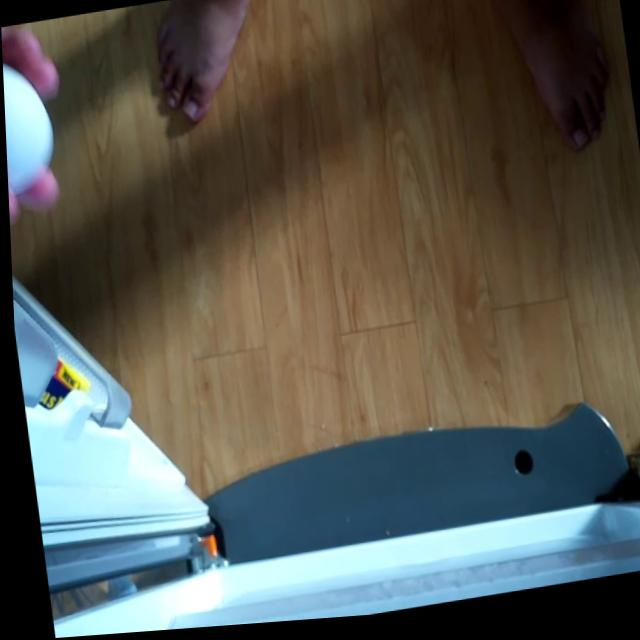egg: (1, 38, 59, 195)
